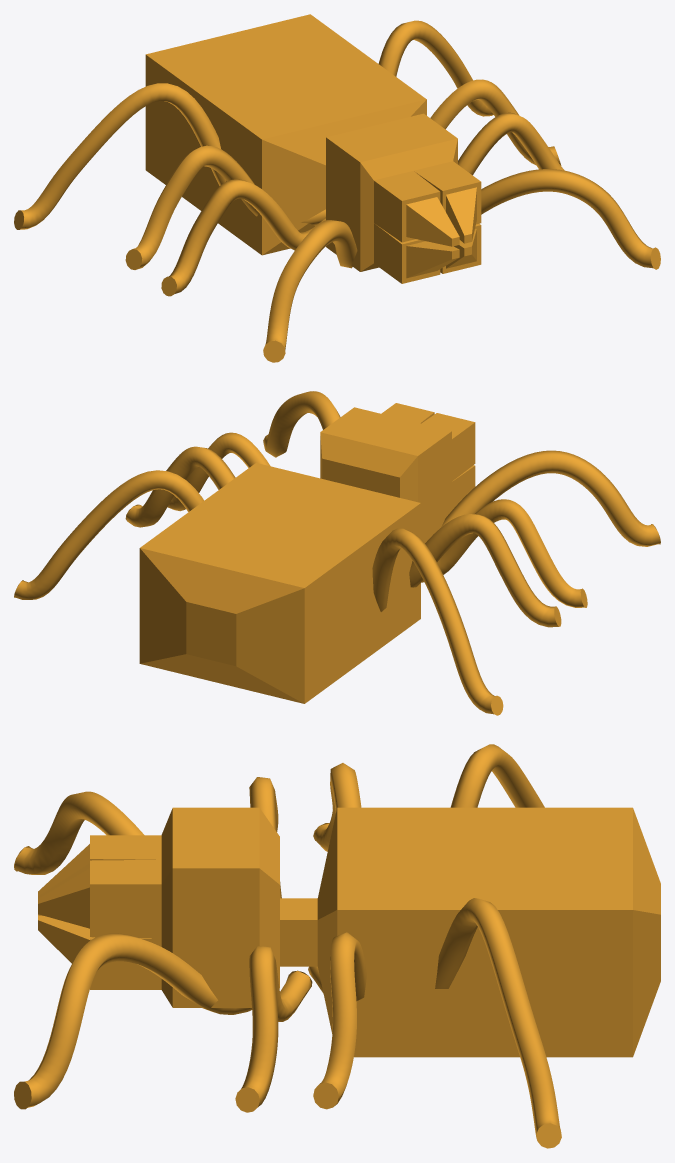
Rendered from Camel_Spider.fbx.
The picture shows the model from 3 angles, top to bottom: view 1: azimuth 30°, elevation 25°; view 2: azimuth 150°, elevation 25°; view 3: azimuth 270°, elevation 25°; orthographic projection. The views are drawn at different scales.
Parts seen in each view (by area): view 1: Camel_Spider; view 2: Camel_Spider; view 3: Camel_Spider.
Part boxes in pixels (<box>): Camel_Spider: <box>14,14,660,362</box>; Camel_Spider: <box>14,391,660,715</box>; Camel_Spider: <box>14,744,660,1148</box>.
Bounding box in the file's own units: 14.43 × 4.02 × 13.16.
